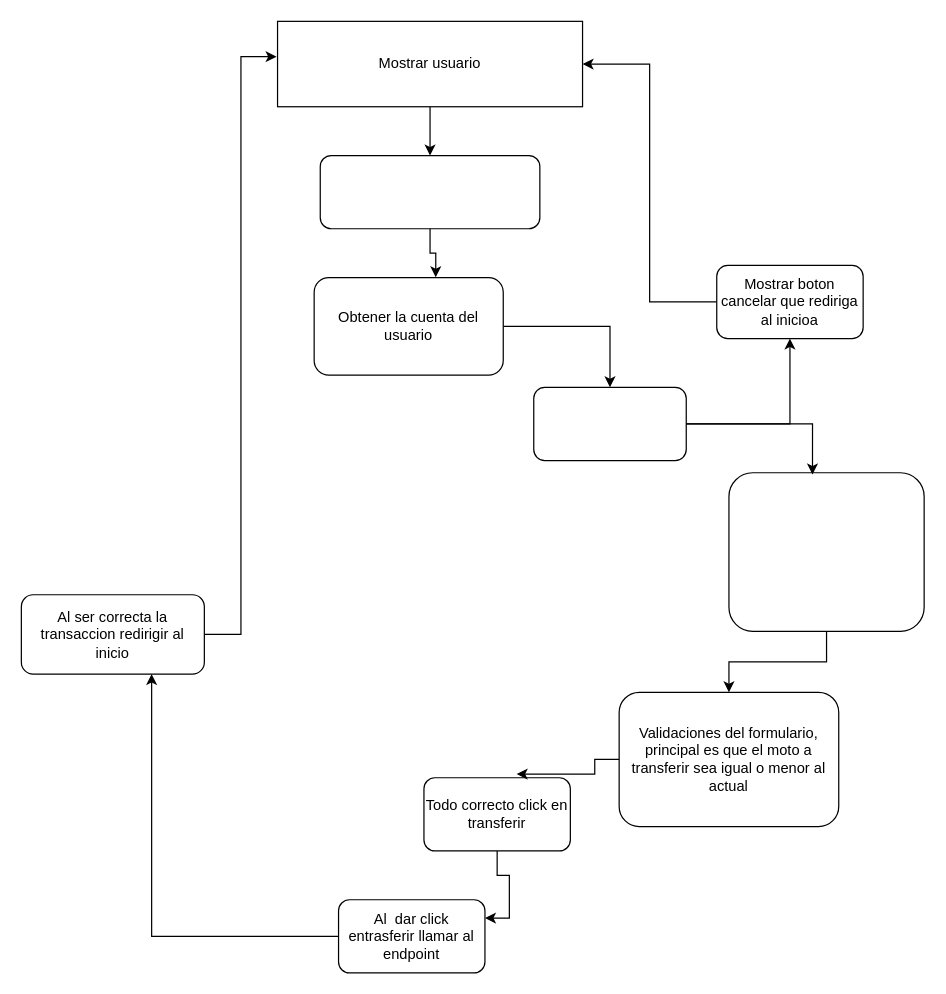
Image size: 946x994. Some labels were removed from this diagram. Here are the shapes that lost their labels. From the top down, the centre of each, then its label:
At [429,191]: "Mostrar cuentas del usuario".
At [609,423]: "rellenar formulario de transferencia".
At [826,551]: "datos formulario: origin cuenta distination cuenta, monto a transferir".
